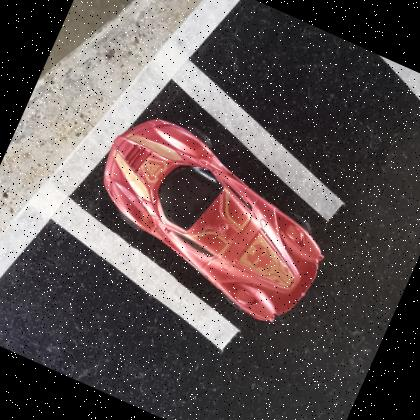Car: (102, 120, 323, 323)
